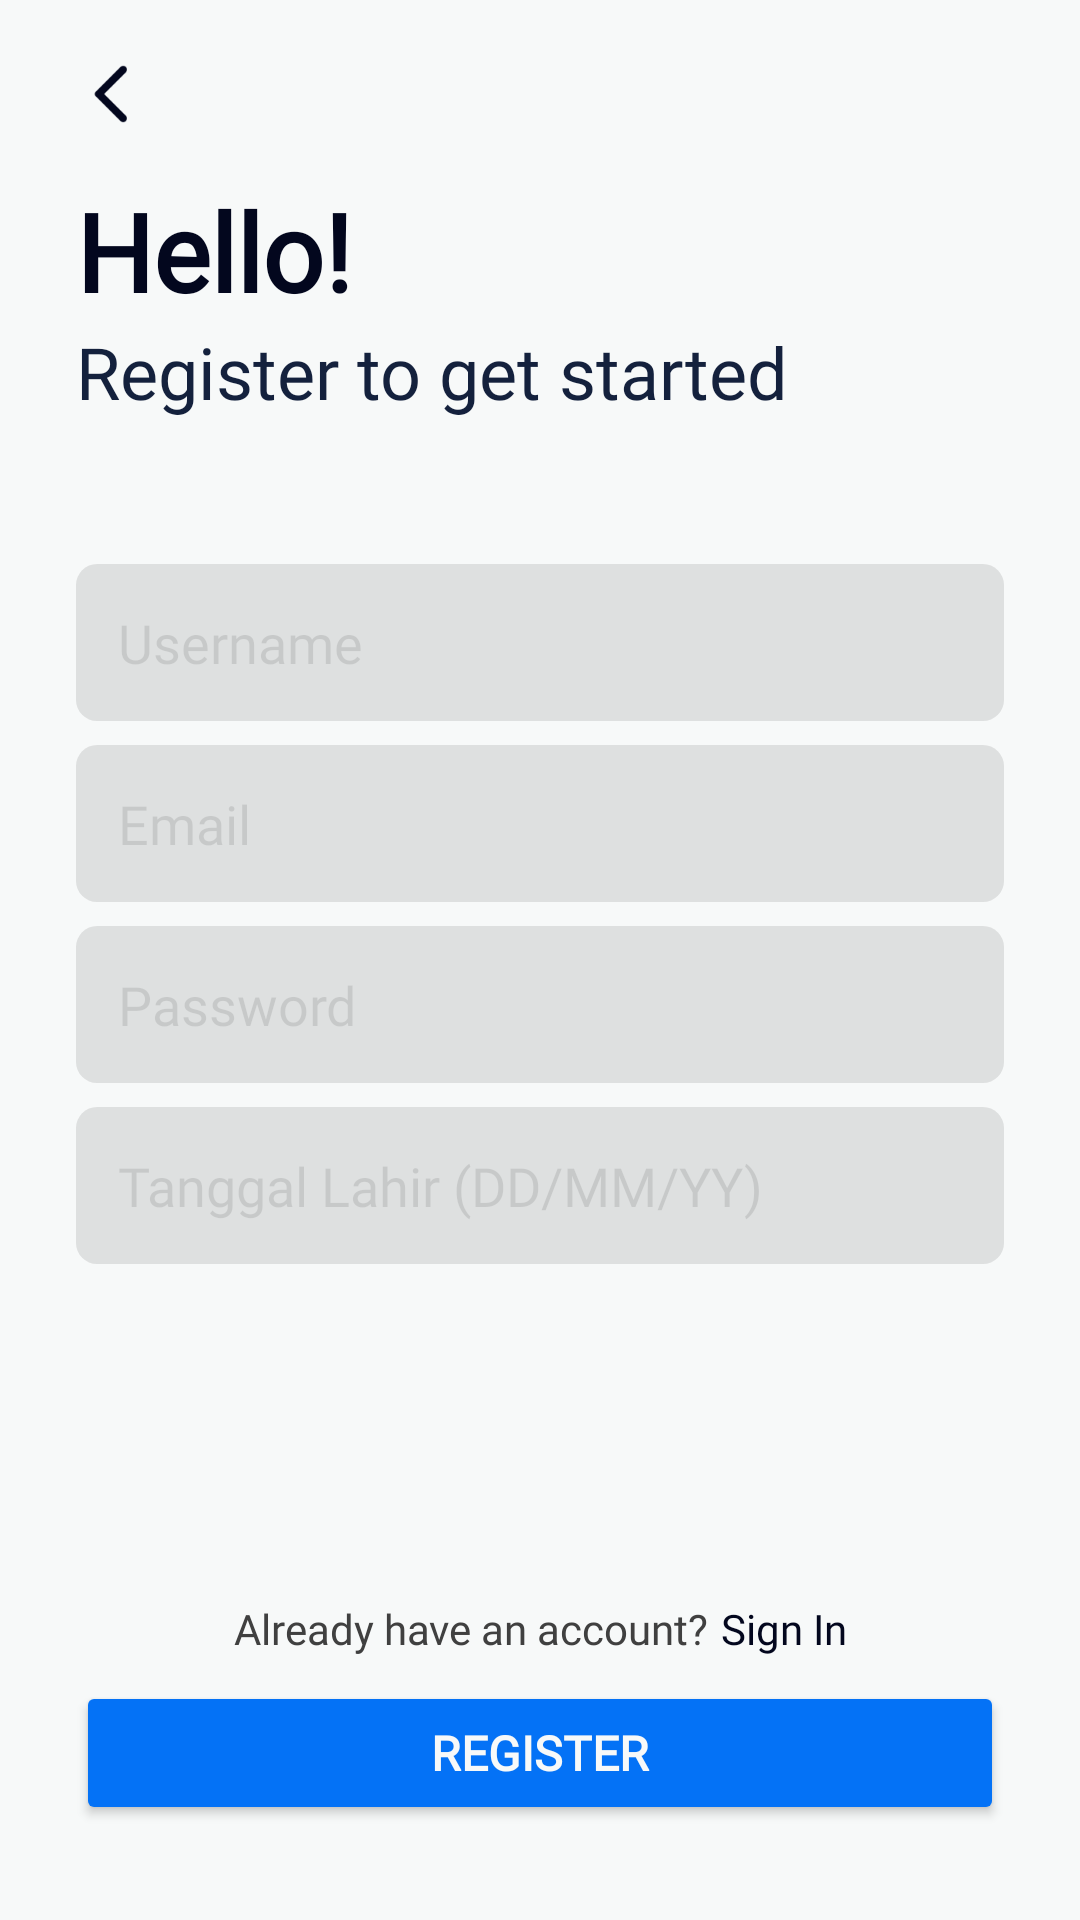

Icon click points for this 1080px×1920px phone screenshot, format [x,y]:
back: [110,94]
